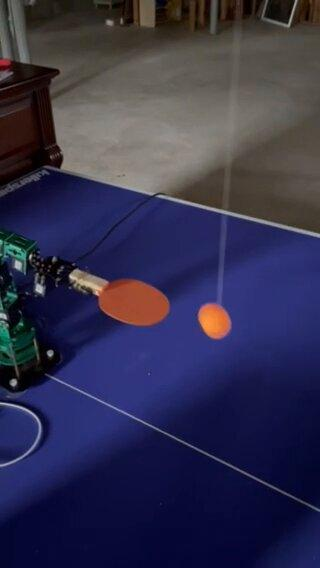oball: (195, 305, 231, 334)
